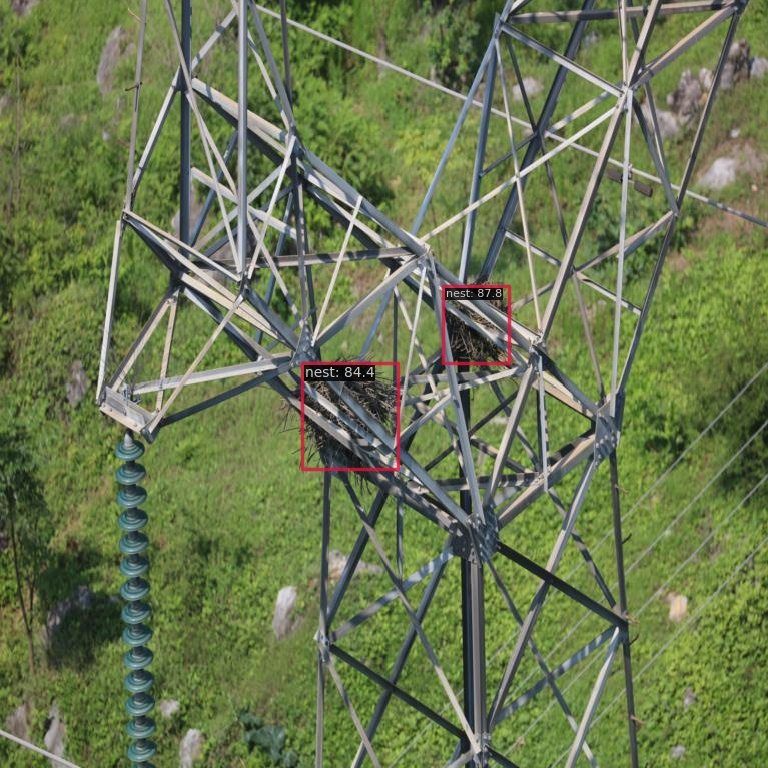nest: (302, 364, 395, 465), (443, 283, 510, 366)
